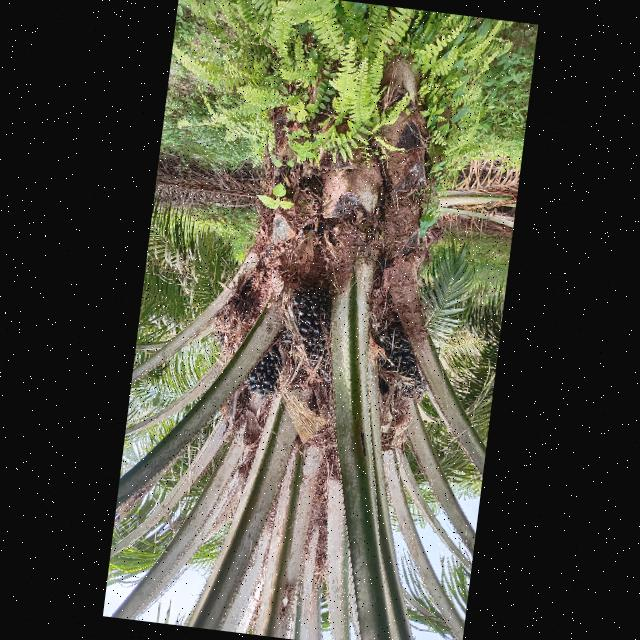Unripe: (379, 303, 424, 398), (289, 283, 330, 378), (242, 345, 281, 396)
